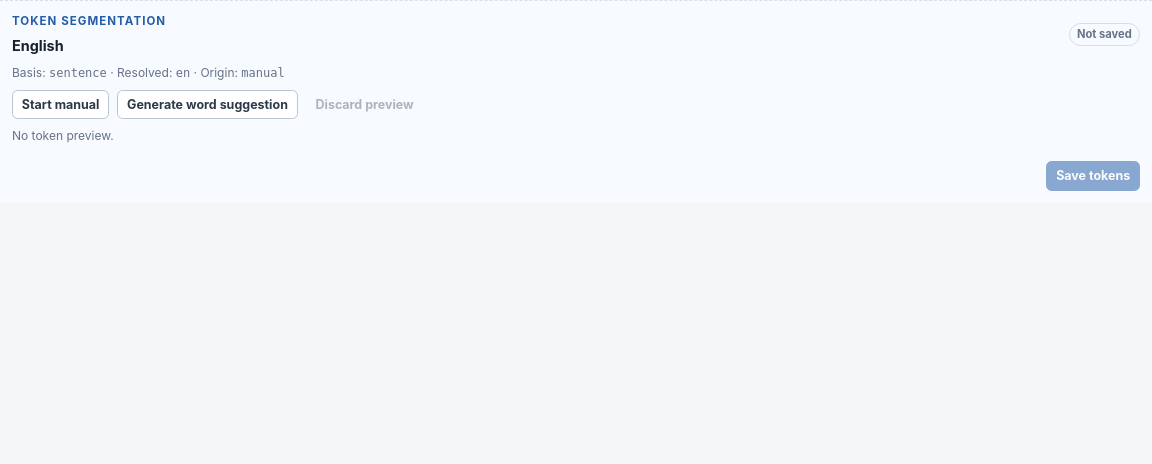
Test: TokenSegmentationPanel › names the lemma cleanup from the legacy scalar dependency_type payload
Click the button "Start manual" at point(61, 105), box [12, 90, 109, 119]
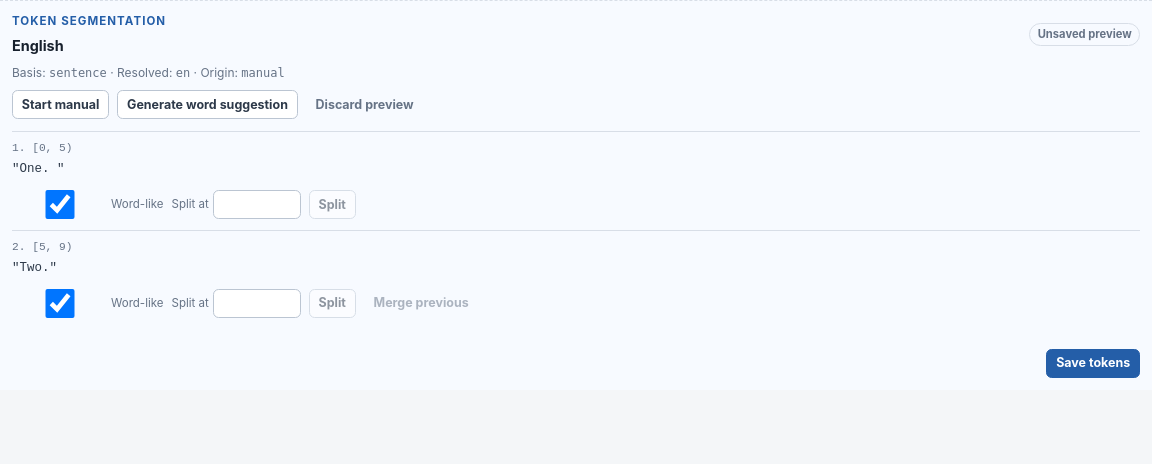
Click the button "Save tokens" at point(1093, 364), box [1046, 349, 1140, 378]
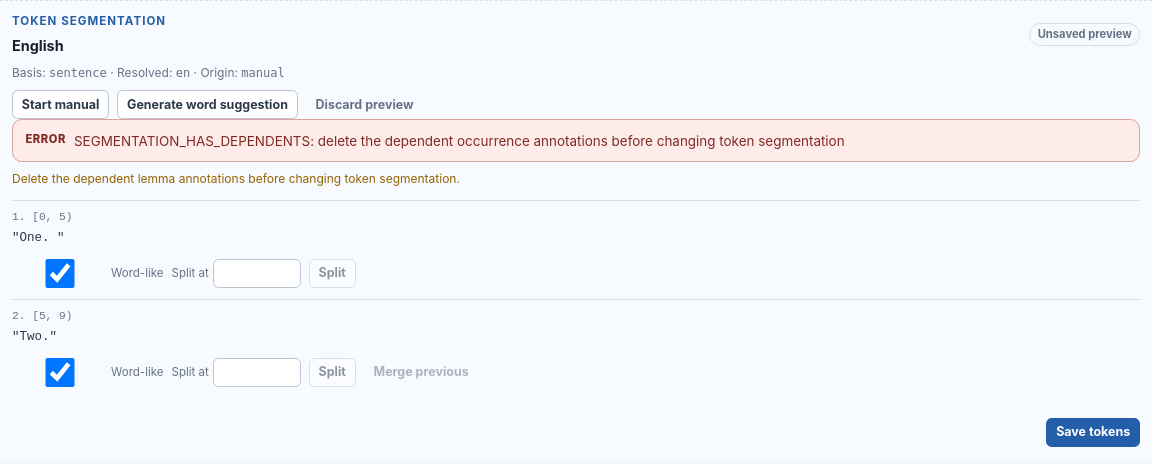
Expected: the message with class "token-annotation-dependency" reads "Delete the dependent lemma annotations before changing token segmentation.", [12, 171, 460, 186]
